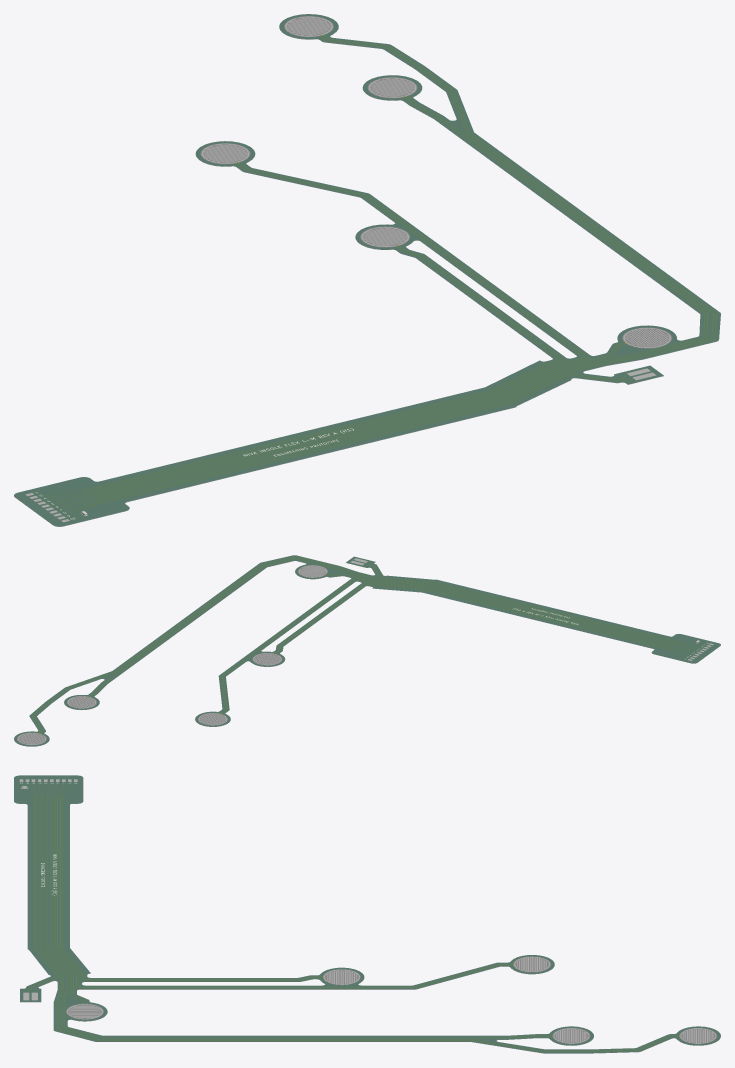
Rendered from NIVA-insole-L-PCBA.glb.
3 renders of one model, top to bottom at view 1: azimuth 30°, elevation 25°; view 2: azimuth 150°, elevation 25°; view 3: azimuth 270°, elevation 25°, orthographic. The views are drawn at different scales.
Parts seen in each view (by area): view 1: =>[0:1:1:7], =>[0:1:1:9], =>[0:1:1:4], =>[0:1:1:8]; view 2: =>[0:1:1:7], =>[0:1:1:9], =>[0:1:1:4]; view 3: =>[0:1:1:7], =>[0:1:1:9], =>[0:1:1:4].
Part boxes in pixels (bbox=[...]): =>[0:1:1:7]: bbox=[14, 14, 720, 526]; =>[0:1:1:9]: bbox=[14, 15, 720, 526]; =>[0:1:1:4]: bbox=[25, 16, 670, 522]; =>[0:1:1:8]: bbox=[16, 31, 717, 526]; =>[0:1:1:7]: bbox=[14, 555, 720, 746]; =>[0:1:1:9]: bbox=[14, 556, 720, 746]; =>[0:1:1:4]: bbox=[17, 558, 713, 744]; =>[0:1:1:7]: bbox=[14, 775, 720, 1053]; =>[0:1:1:9]: bbox=[14, 776, 720, 1053]; =>[0:1:1:4]: bbox=[19, 779, 716, 1043].
Bounding box in the file's own units: 0.2175 × 0.000615 × 0.234.
